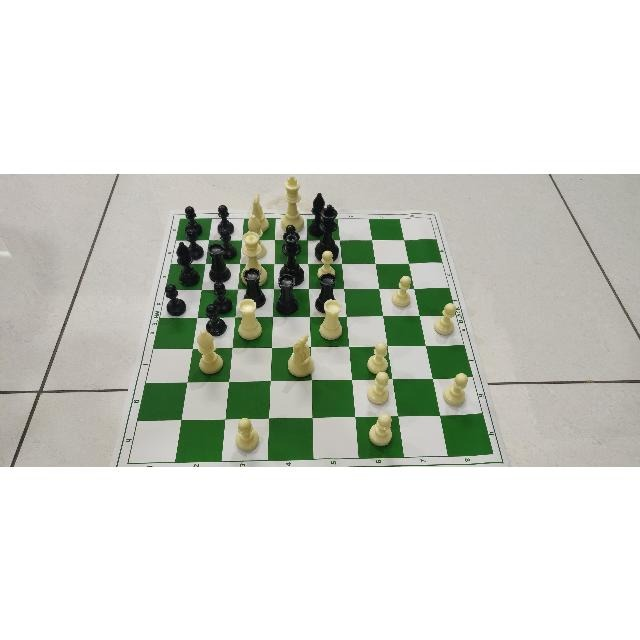black-bishop: (174, 240, 202, 286), (310, 190, 324, 234)
black-king: (321, 201, 343, 256)
black-pawn: (201, 303, 228, 336), (180, 206, 208, 237), (208, 280, 234, 312), (214, 203, 240, 234), (162, 283, 186, 316), (216, 226, 236, 257), (185, 227, 203, 258), (284, 223, 298, 231)
black-queen: (280, 230, 307, 286)
black-rook: (316, 272, 352, 310), (276, 273, 304, 313), (243, 267, 268, 307), (207, 244, 233, 281)
white-bishop: (192, 327, 225, 372), (245, 215, 270, 255)
white-king: (281, 175, 306, 233)
white-knight: (285, 331, 313, 376), (245, 190, 273, 229)
white-pawn: (234, 416, 264, 453), (444, 373, 476, 407), (364, 413, 395, 447), (363, 370, 391, 404), (360, 341, 390, 372), (432, 302, 460, 332), (390, 274, 412, 308), (319, 250, 345, 278)
white-queen: (242, 232, 270, 284)
white-rook: (236, 297, 266, 341), (318, 297, 344, 338)
